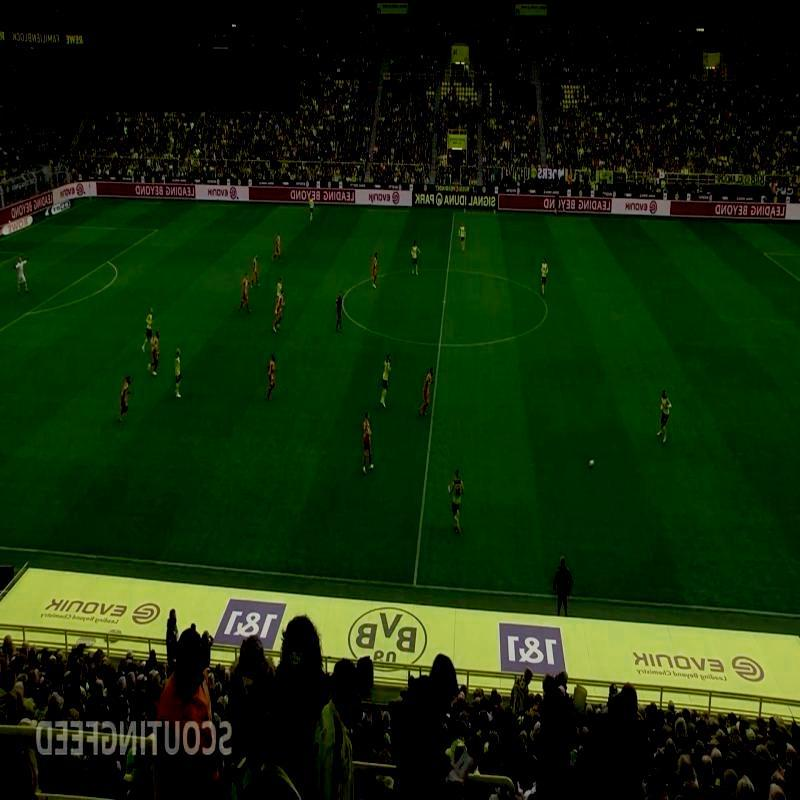1: (83, 193, 97, 207)
10: (101, 255, 116, 269)
11: (24, 304, 38, 318)
13: (447, 205, 462, 218)
14: (442, 262, 456, 276)
15: (434, 336, 449, 349)
16: (406, 574, 422, 596)
2: (30, 220, 44, 234)
7: (16, 246, 30, 260)
9: (148, 222, 165, 240), (758, 245, 772, 259)
c: (539, 303, 554, 319), (336, 293, 348, 309)
